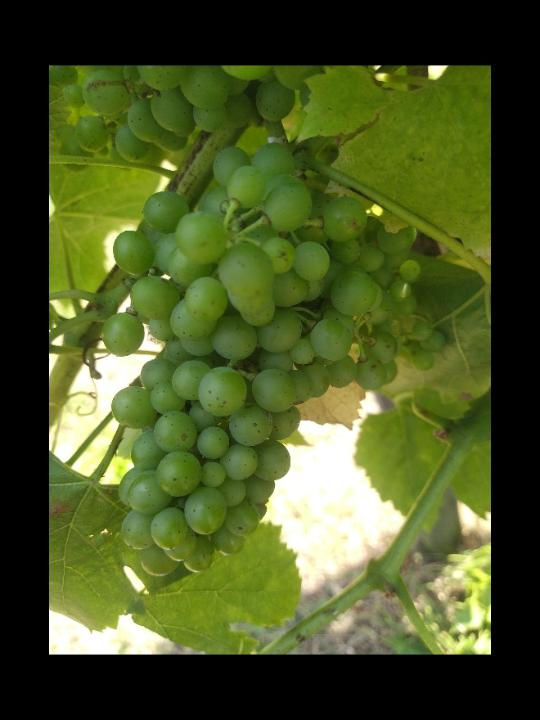grape: (97, 139, 448, 581)
